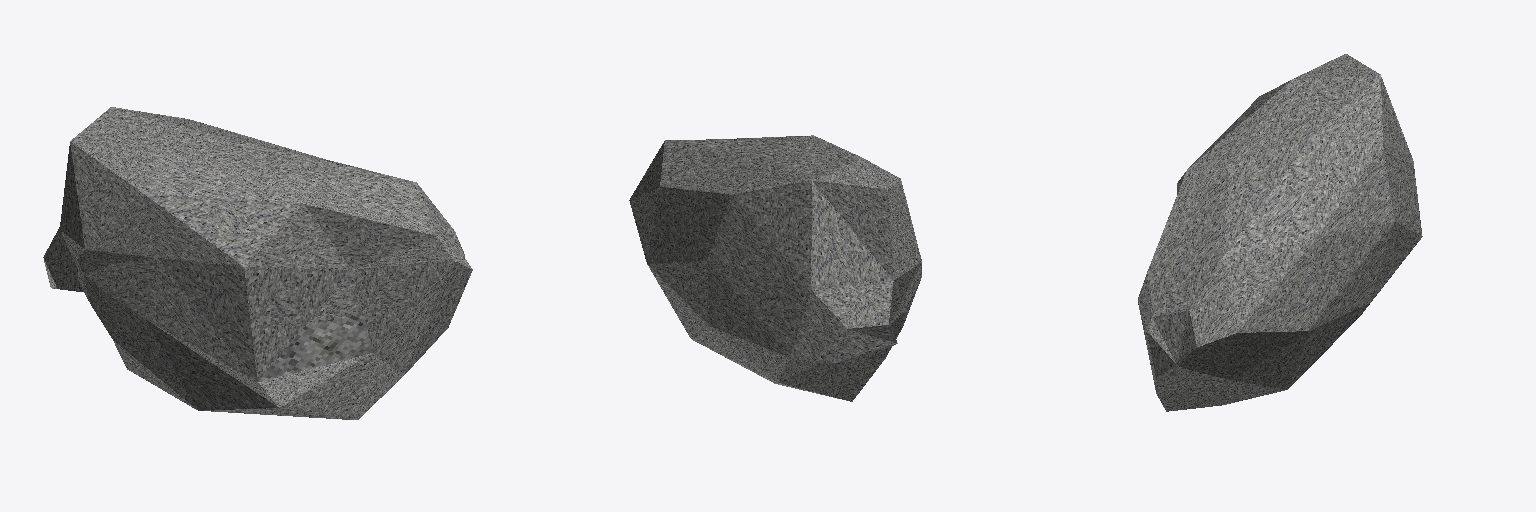
3 views of the same model, side by side, from view 1: azimuth 30°, elevation 25°; view 2: azimuth 150°, elevation 25°; view 3: azimuth 270°, elevation 25° (orthographic).
Visible parts, largest first — view 1: Icosphere.003; view 2: Icosphere.003; view 3: Icosphere.003.
Boxes of the visible parts, x1,y1,x2,y2 form: Icosphere.003: [43, 107, 472, 419]; Icosphere.003: [629, 135, 921, 401]; Icosphere.003: [1138, 54, 1422, 411].
Size of the model in its own units: 2.96 by 2.29 by 2.18.
1 materials, 1 textured.